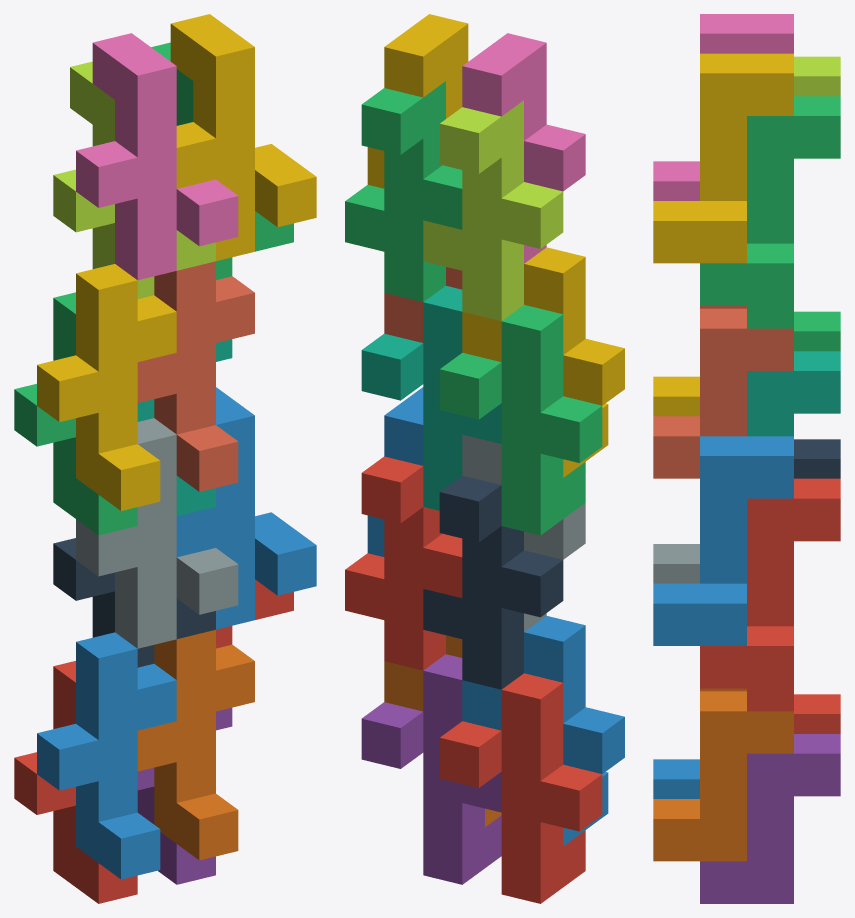
File: tiling.obj
3 renders of one model, left to right at view 1: azimuth 30°, elevation 25°; view 2: azimuth 150°, elevation 25°; view 3: azimuth 270°, elevation 25°, orthographic. The views are drawn at different scales.
Visible parts, largest first — view 1: copy_2_domain_4, copy_1_domain_2, copy_1_domain_4, copy_2_domain_8, copy_1_domain_6, copy_1_domain_8, copy_2_domain_2, copy_2_domain_6, copy_1_domain_1, copy_1_domain_3, copy_2_domain_3, copy_2_domain_1 (+4 smaller); view 2: copy_1_domain_3, copy_1_domain_1, copy_2_domain_3, copy_2_domain_1, copy_2_domain_7, copy_2_domain_5, copy_1_domain_5, copy_1_domain_7, copy_1_domain_2, copy_1_domain_4, copy_2_domain_4, copy_2_domain_8 (+4 smaller); view 3: copy_2_domain_8, copy_2_domain_6, copy_2_domain_5, copy_2_domain_7, copy_1_domain_6, copy_1_domain_5, copy_1_domain_8, copy_1_domain_7, copy_2_domain_4, copy_1_domain_3, copy_1_domain_4, copy_2_domain_3 (+4 smaller).
Boxes of the visible parts, x1=… form: copy_2_domain_4: x1=76, y1=33, x2=238, y2=280; copy_1_domain_2: x1=37, y1=632, x2=176, y2=879; copy_1_domain_4: x1=37, y1=264, x2=176, y2=510; copy_2_domain_8: x1=170, y1=14, x2=316, y2=260; copy_1_domain_6: x1=137, y1=630, x2=254, y2=860; copy_1_domain_8: x1=137, y1=261, x2=254, y2=491; copy_2_domain_2: x1=76, y1=418, x2=238, y2=648; copy_2_domain_6: x1=176, y1=387, x2=316, y2=629; copy_1_domain_1: x1=14, y1=661, x2=137, y2=903; copy_1_domain_3: x1=14, y1=292, x2=137, y2=535; copy_2_domain_3: x1=53, y1=61, x2=215, y2=298; copy_2_domain_1: x1=53, y1=538, x2=215, y2=667; copy_1_domain_3: x1=439, y1=305, x2=602, y2=535; copy_1_domain_1: x1=439, y1=673, x2=602, y2=903; copy_2_domain_3: x1=423, y1=100, x2=563, y2=321; copy_2_domain_1: x1=423, y1=475, x2=563, y2=689; copy_2_domain_7: x1=345, y1=81, x2=462, y2=301; copy_2_domain_5: x1=345, y1=456, x2=462, y2=670; copy_1_domain_5: x1=361, y1=654, x2=501, y2=884; copy_1_domain_7: x1=361, y1=286, x2=501, y2=510; copy_1_domain_2: x1=462, y1=616, x2=624, y2=845; copy_1_domain_4: x1=462, y1=247, x2=624, y2=477; copy_2_domain_4: x1=462, y1=33, x2=585, y2=263; copy_2_domain_8: x1=367, y1=14, x2=468, y2=188; copy_2_domain_8: x1=653, y1=53, x2=793, y2=263; copy_2_domain_6: x1=653, y1=436, x2=793, y2=645; copy_2_domain_5: x1=700, y1=478, x2=840, y2=711; copy_2_domain_7: x1=700, y1=96, x2=840, y2=328; copy_1_domain_6: x1=653, y1=688, x2=793, y2=861; copy_1_domain_5: x1=700, y1=734, x2=840, y2=903; copy_1_domain_8: x1=653, y1=306, x2=793, y2=478; copy_1_domain_7: x1=747, y1=351, x2=840, y2=436; copy_2_domain_4: x1=653, y1=14, x2=793, y2=200; copy_1_domain_3: x1=794, y1=311, x2=840, y2=351; copy_1_domain_4: x1=653, y1=376, x2=699, y2=416; copy_2_domain_3: x1=794, y1=56, x2=840, y2=96.
Size of the model in its own units: 6 by 20 by 4.
